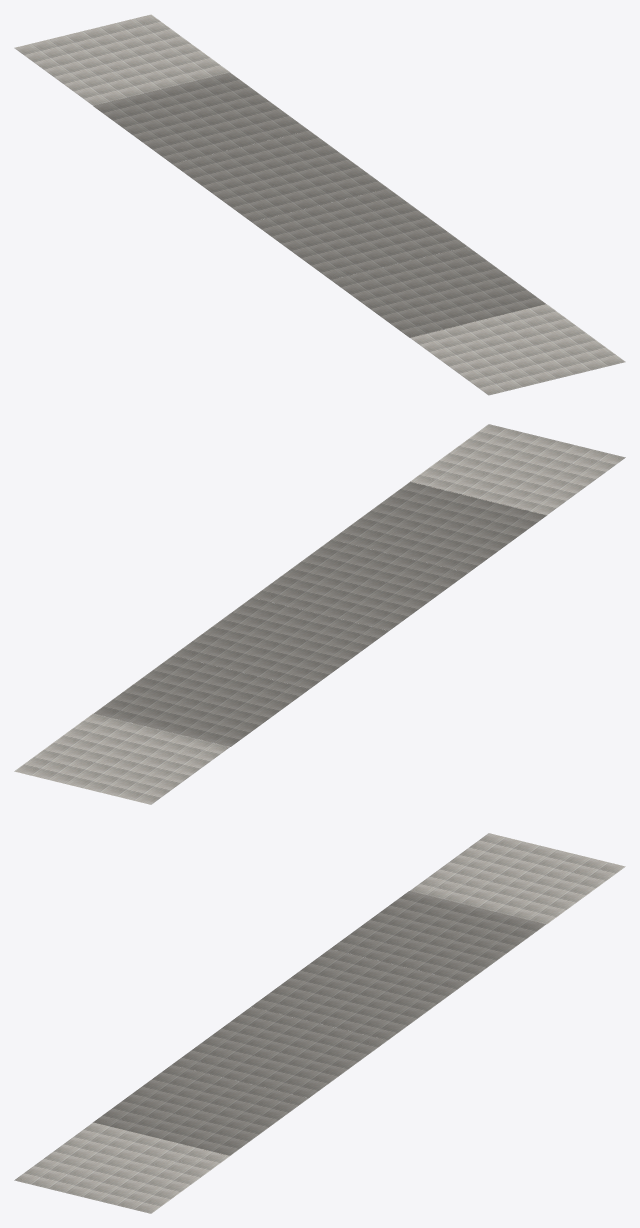
The model's file is VeredasExtras.glb.
The picture shows the model from 3 angles, top to bottom: view 1: azimuth 30°, elevation 25°; view 2: azimuth 150°, elevation 25°; view 3: azimuth 330°, elevation 25°; orthographic projection.
Parts seen in each view (by area): view 1: Der, Plane.001, Plane; view 2: Der, Plane.001, Plane; view 3: Der, Plane, Plane.001.
Boxes of the visible parts, x1=… form: Der: x1=93, y1=72, x2=545, y2=337; Plane.001: x1=14, y1=14, x2=229, y2=105; Plane: x1=410, y1=304, x2=625, y2=395; Der: x1=94, y1=481, x2=546, y2=746; Plane.001: x1=14, y1=713, x2=229, y2=804; Plane: x1=410, y1=424, x2=625, y2=515; Der: x1=93, y1=891, x2=545, y2=1155; Plane: x1=14, y1=1122, x2=229, y2=1213; Plane.001: x1=410, y1=833, x2=625, y2=924.
Bounding box in the file's own units: 5.01 × 0.000779 × 29.96.
2 materials, 2 textured.
